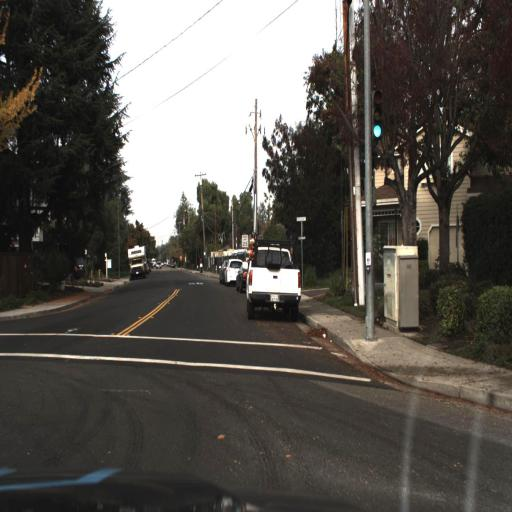car: (242, 236, 308, 325), (225, 252, 241, 288)
trafficLight-Green: (370, 81, 382, 147), (370, 109, 383, 147)
truck: (125, 243, 150, 288)
